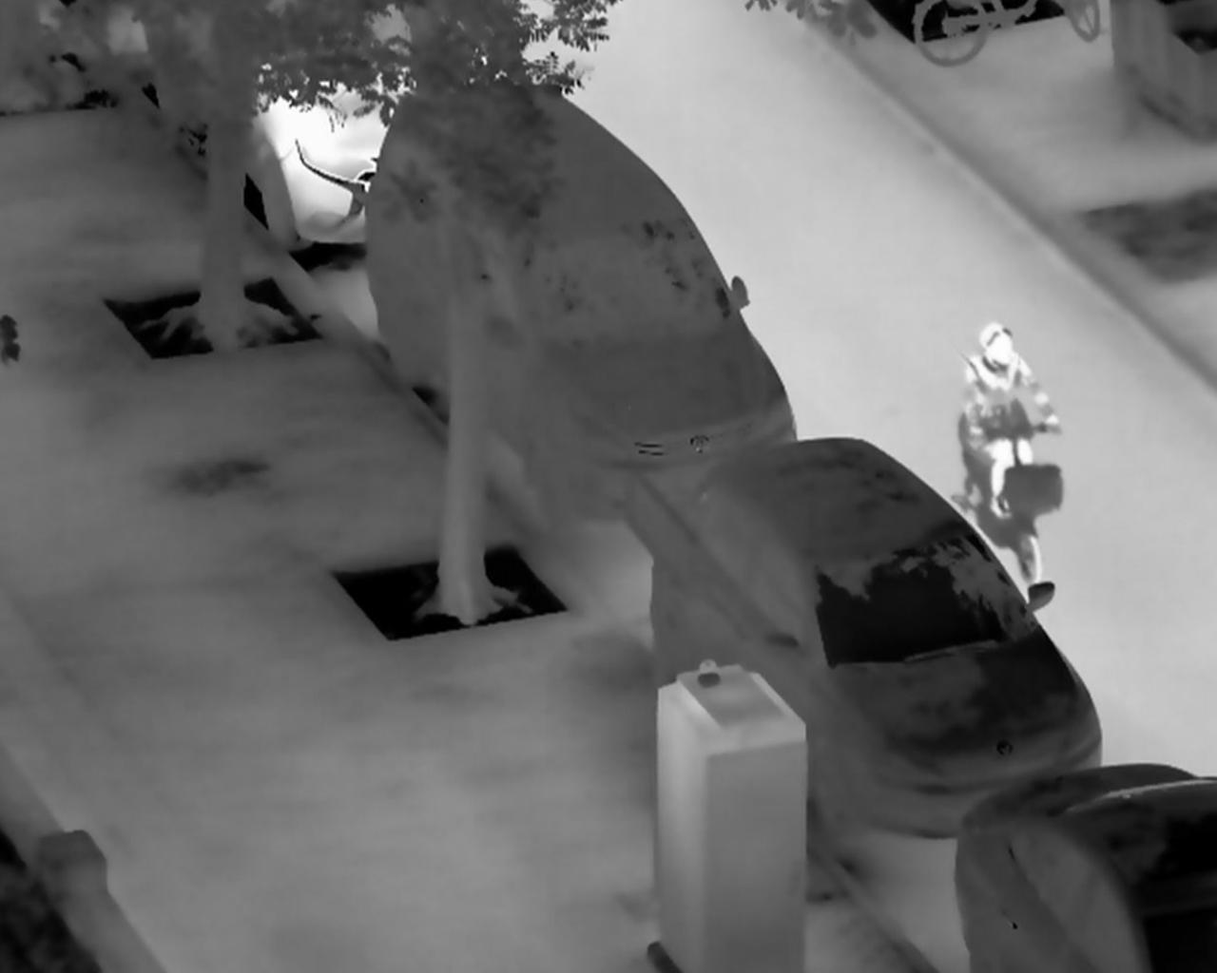person: (961, 322, 1060, 522)
